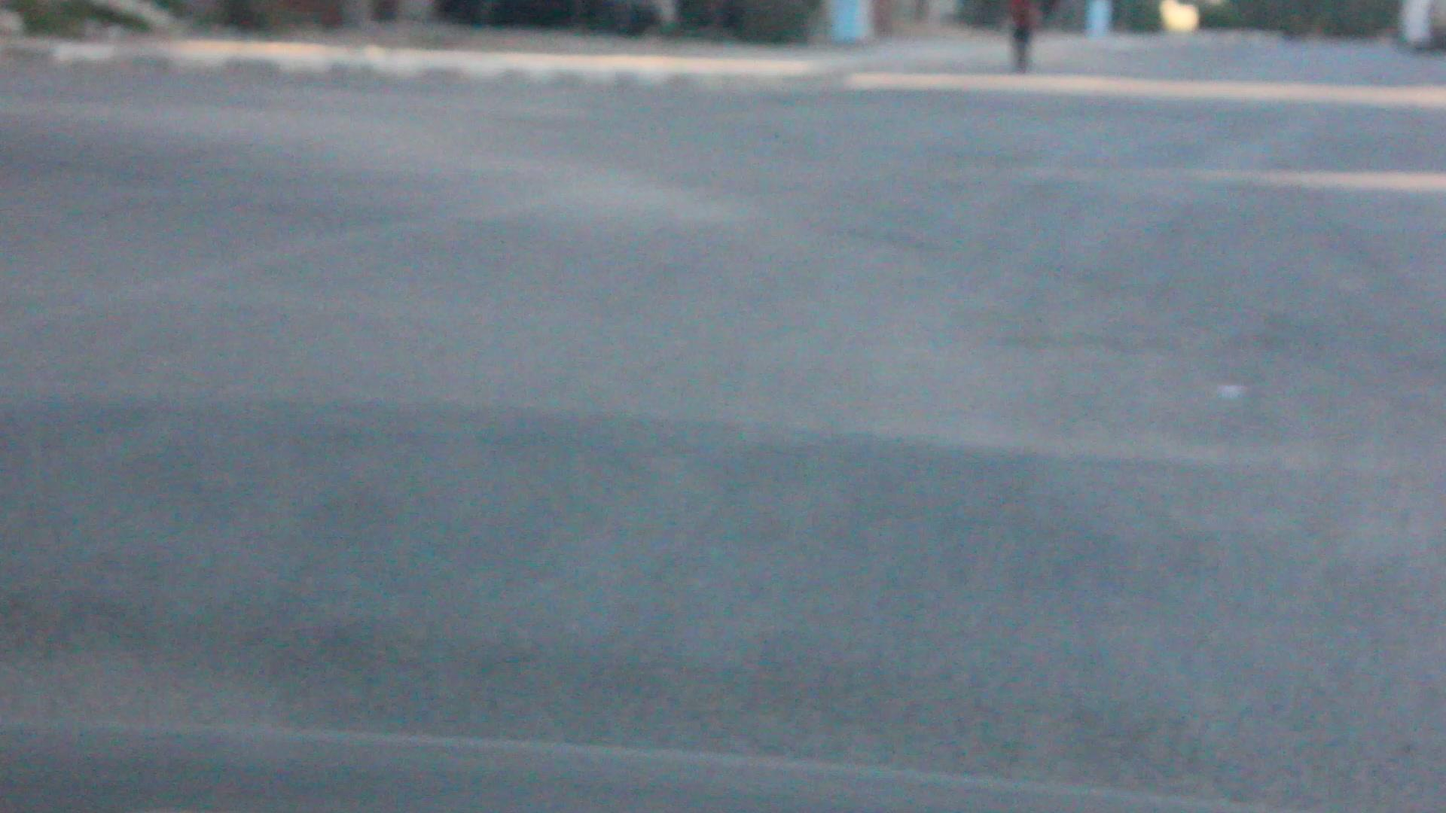Bump: (15, 356, 1446, 715)
